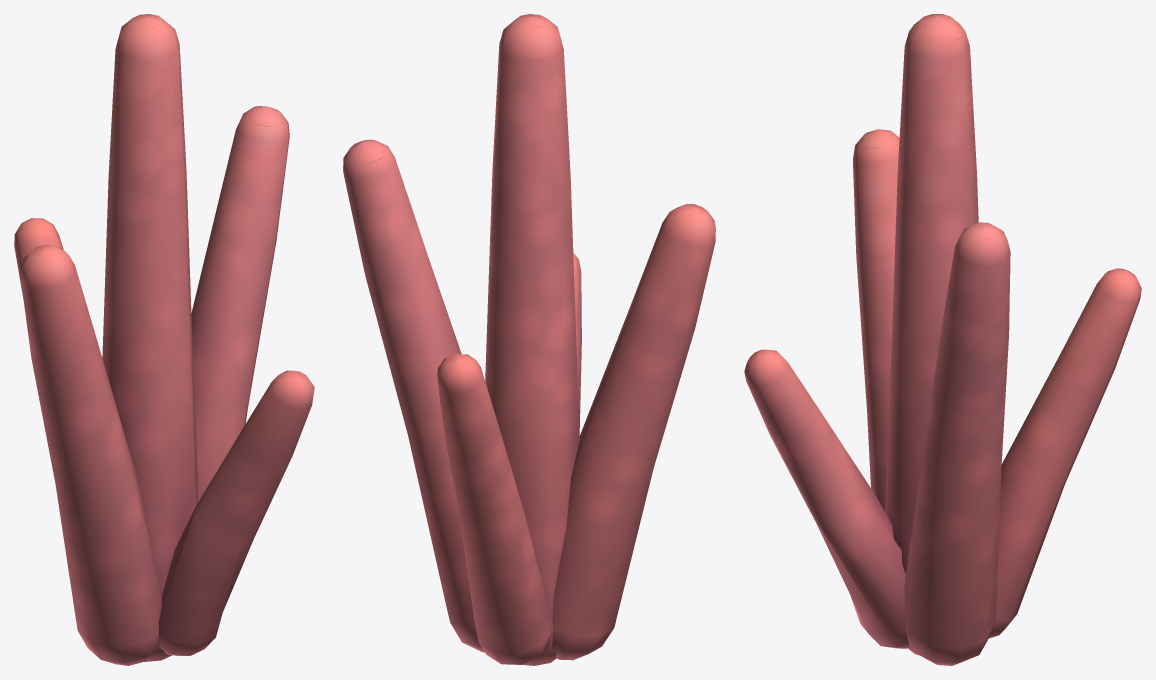
Rendered from WM_CoralBranch_A.fbx.
3 views of the same model, side by side, from view 1: azimuth 30°, elevation 25°; view 2: azimuth 150°, elevation 25°; view 3: azimuth 270°, elevation 25° (orthographic).
Parts seen in each view (by area): view 1: WM_CoralBranch_A_LOD0; view 2: WM_CoralBranch_A_LOD0; view 3: WM_CoralBranch_A_LOD0.
Boxes of the visible parts, left/top/right/bottom form: WM_CoralBranch_A_LOD0: left=14, top=14, right=314, bottom=665; WM_CoralBranch_A_LOD0: left=343, top=14, right=715, bottom=665; WM_CoralBranch_A_LOD0: left=744, top=14, right=1141, bottom=665.
Size of what is drawn, in the model's own units: 0.5365 by 1.05 by 0.5963.
